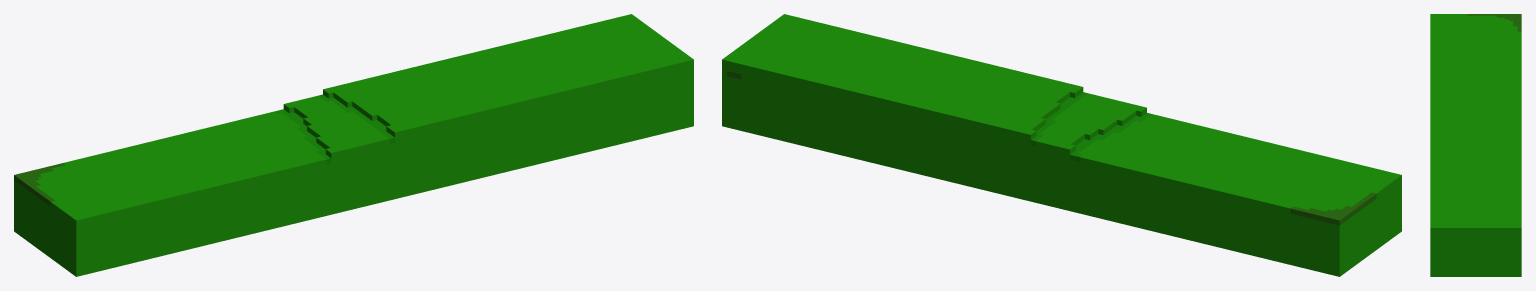
Rendered from castle 3 2-2.obj.
3 views of the same model, side by side, from view 1: azimuth 30°, elevation 25°; view 2: azimuth 150°, elevation 25°; view 3: azimuth 270°, elevation 25° (orthographic). The views are drawn at different scales.
Size of the model in its own units: 12.6 by 1.3 by 2.2.
Materials: 1 (1 with a texture image).
